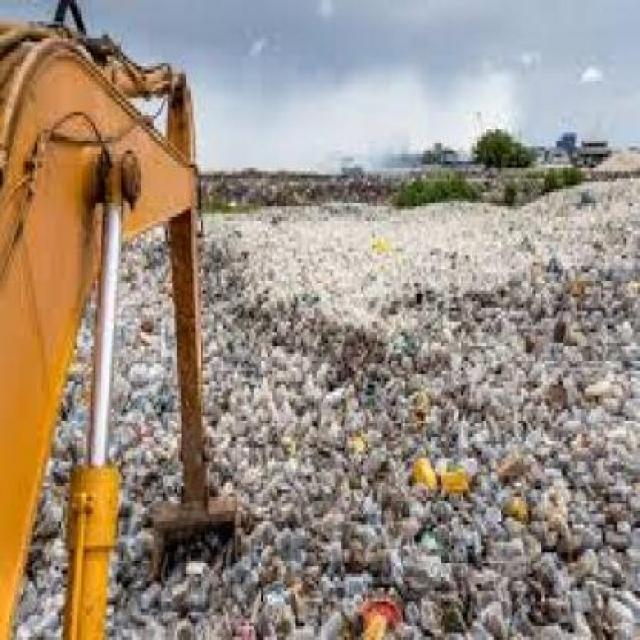garbage: (226, 209, 638, 636), (117, 248, 182, 524), (117, 528, 242, 636), (196, 206, 235, 511), (42, 305, 76, 462), (11, 535, 58, 632), (526, 172, 638, 210)
